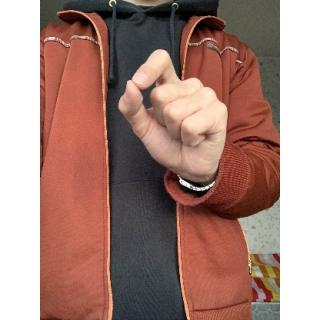FAA: (116, 45, 236, 183)
